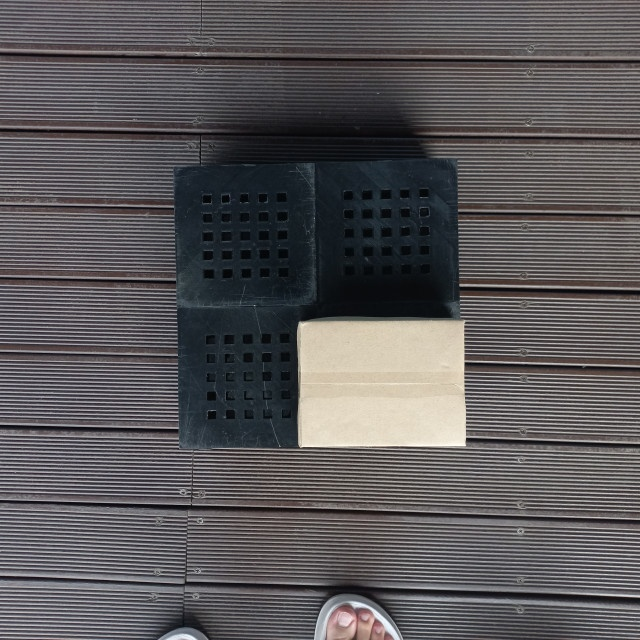box: (297, 315, 466, 448)
pallet: (168, 157, 464, 449)
